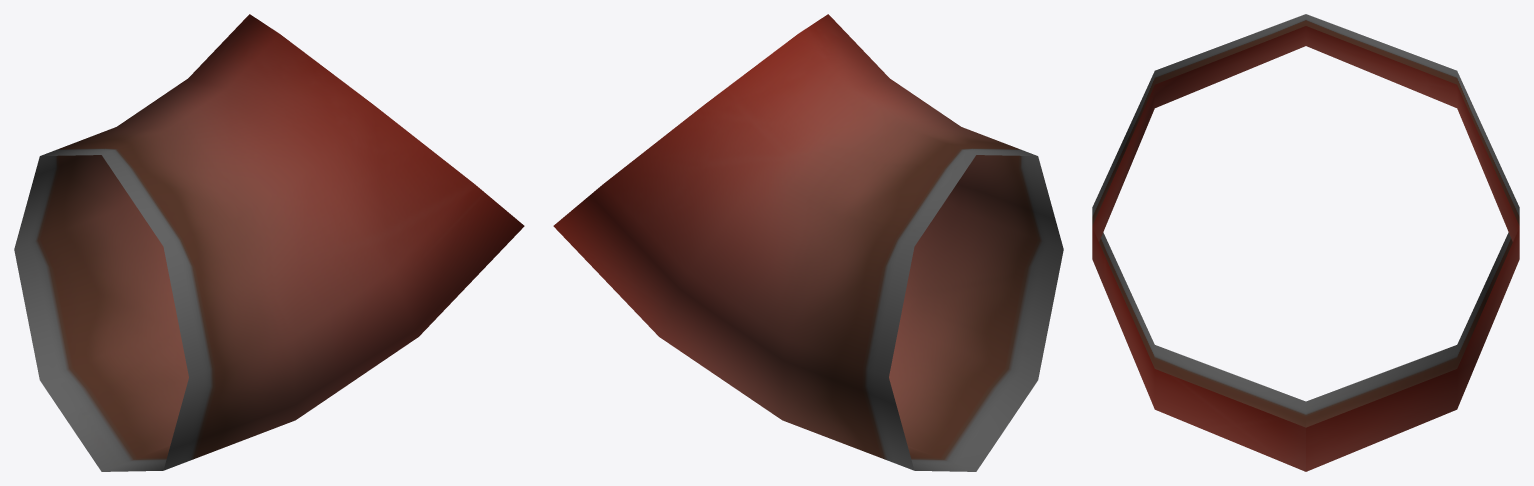
The model's file is pipe01_crn_16a_low.fbx.
The picture shows the model from 3 angles, left to right: view 1: azimuth 30°, elevation 25°; view 2: azimuth 150°, elevation 25°; view 3: azimuth 270°, elevation 25°; orthographic projection. The views are drawn at different scales.
Visible parts, largest first — view 1: pipe01_crn_16a_low; view 2: pipe01_crn_16a_low; view 3: pipe01_crn_16a_low.
Boxes of the visible parts, <box> form: pipe01_crn_16a_low: <box>14,14,524,471</box>; pipe01_crn_16a_low: <box>553,14,1063,471</box>; pipe01_crn_16a_low: <box>1092,14,1519,471</box>.
Size of the model in its own units: 15.56 by 14.93 by 12.
